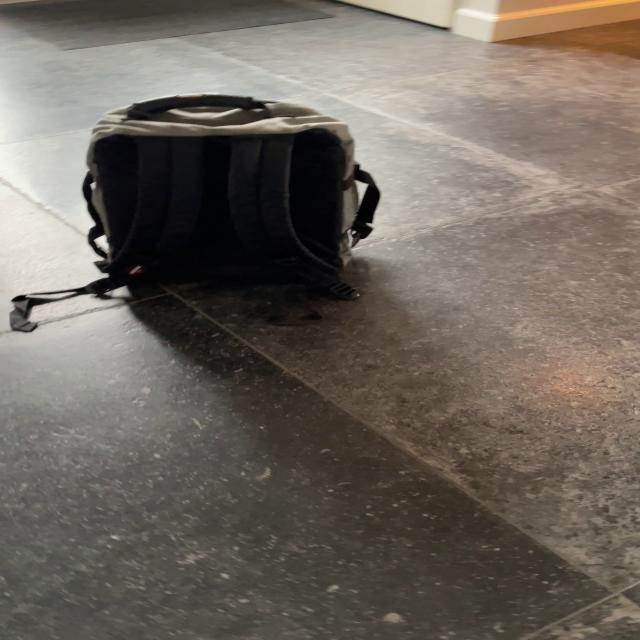backpack: (69, 84, 390, 322)
